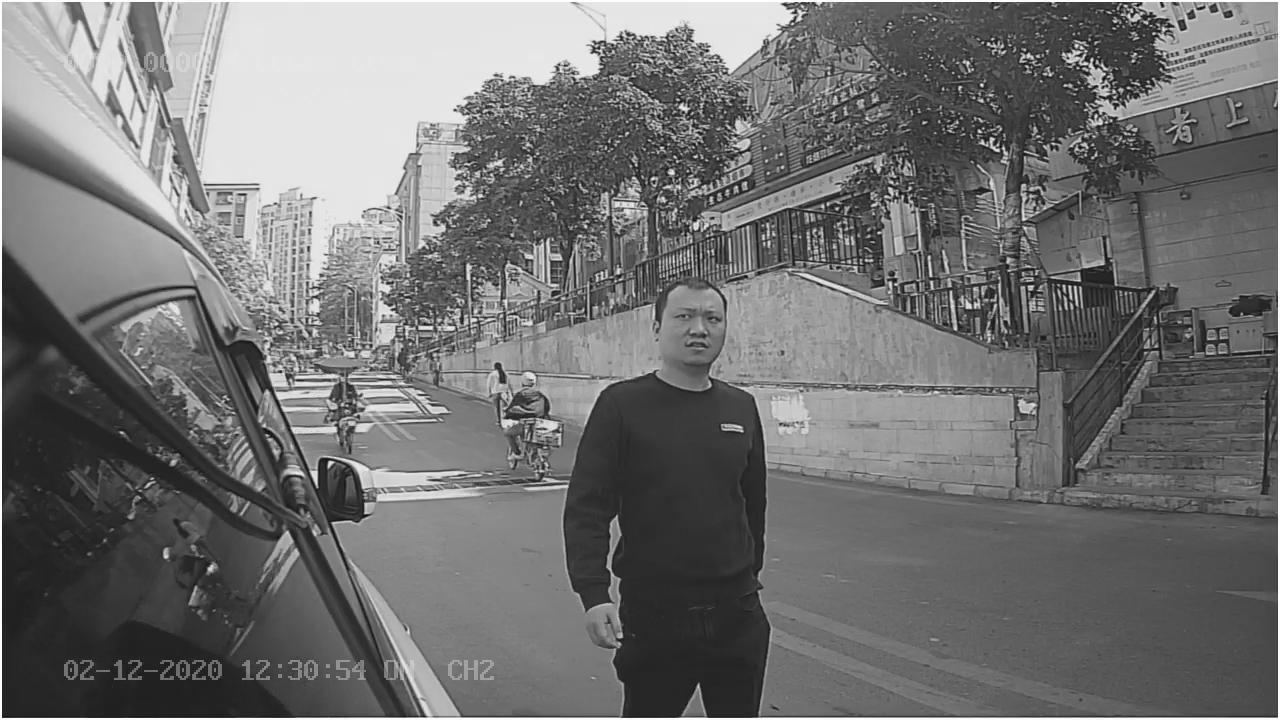person: (559, 272, 790, 649)
